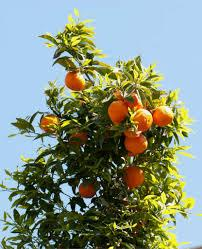orange: (107, 93, 172, 132), (62, 67, 94, 94), (123, 161, 148, 191), (124, 127, 151, 154)
